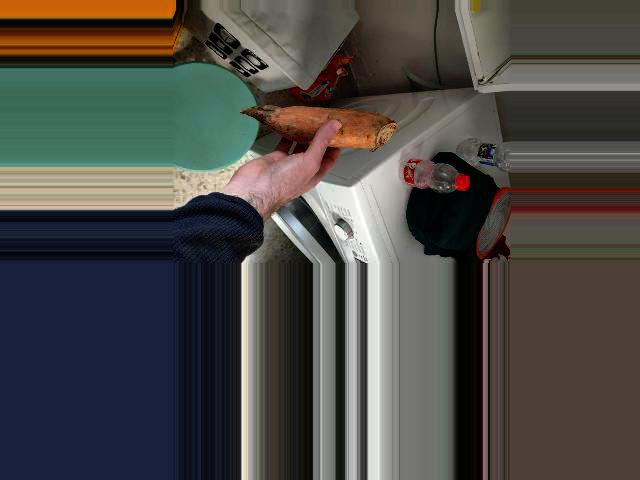sweet_potato: (240, 109, 403, 142)
